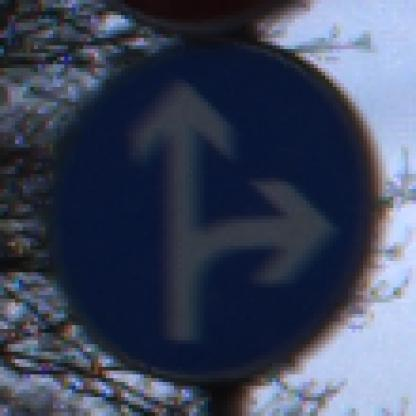Straight or Right: (39, 35, 383, 383)
